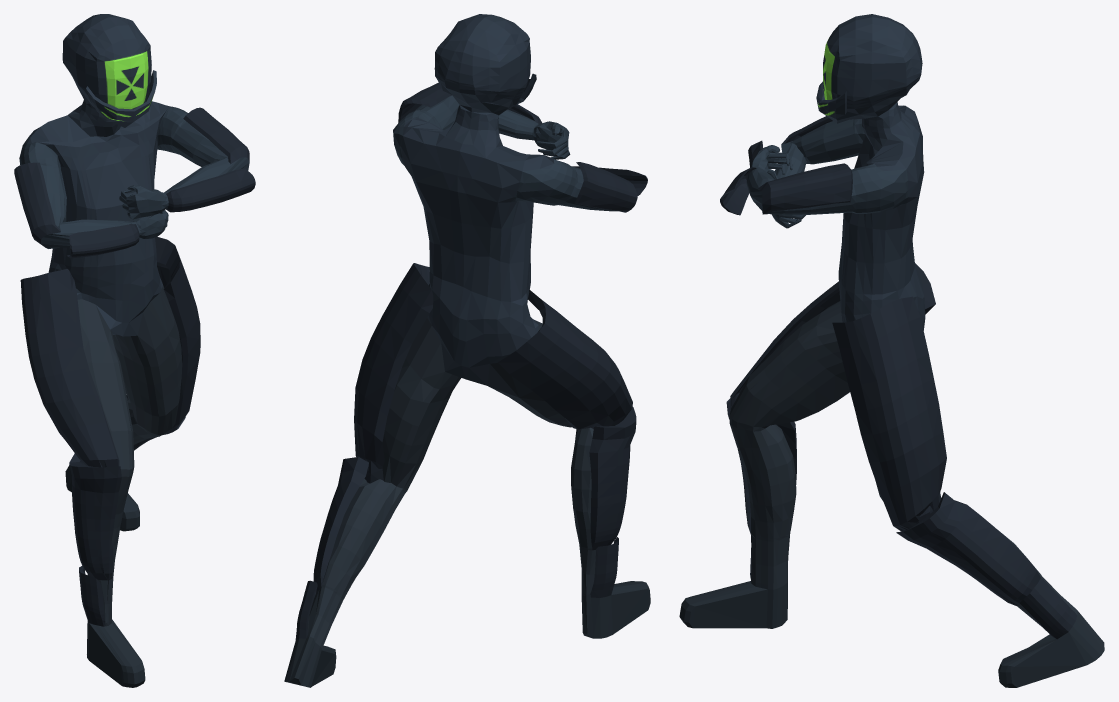
The model's file is Bastion_WR_000004.obj.
3 renders of one model, left to right at view 1: azimuth 30°, elevation 25°; view 2: azimuth 150°, elevation 25°; view 3: azimuth 270°, elevation 25°, orthographic. The views are drawn at different scales.
Visible parts, largest first — view 1: Cube.002; view 2: Cube.002; view 3: Cube.002.
Boxes of the visible parts, x1,y1,x2,y2 form: Cube.002: (14,14,255,687); Cube.002: (284,14,650,687); Cube.002: (679,14,1104,687).
Size of the model in its own units: 1.35 by 3.58 by 2.17.
